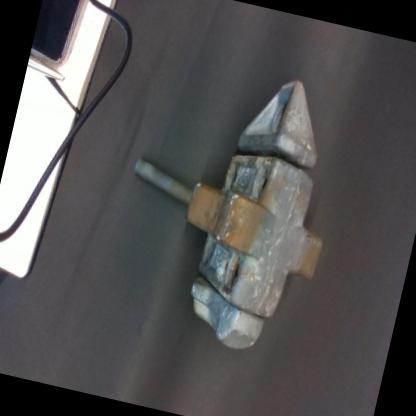Twistlock: (96, 44, 362, 368)
